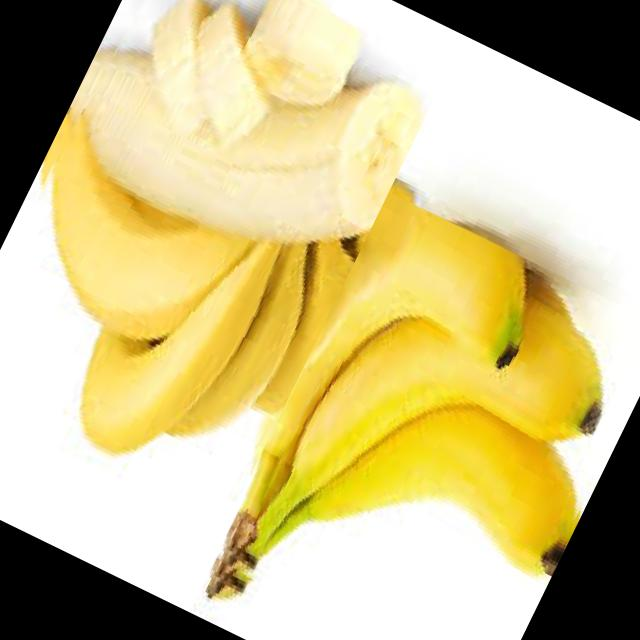Organic: (0, 0, 446, 518), (195, 190, 640, 640)
